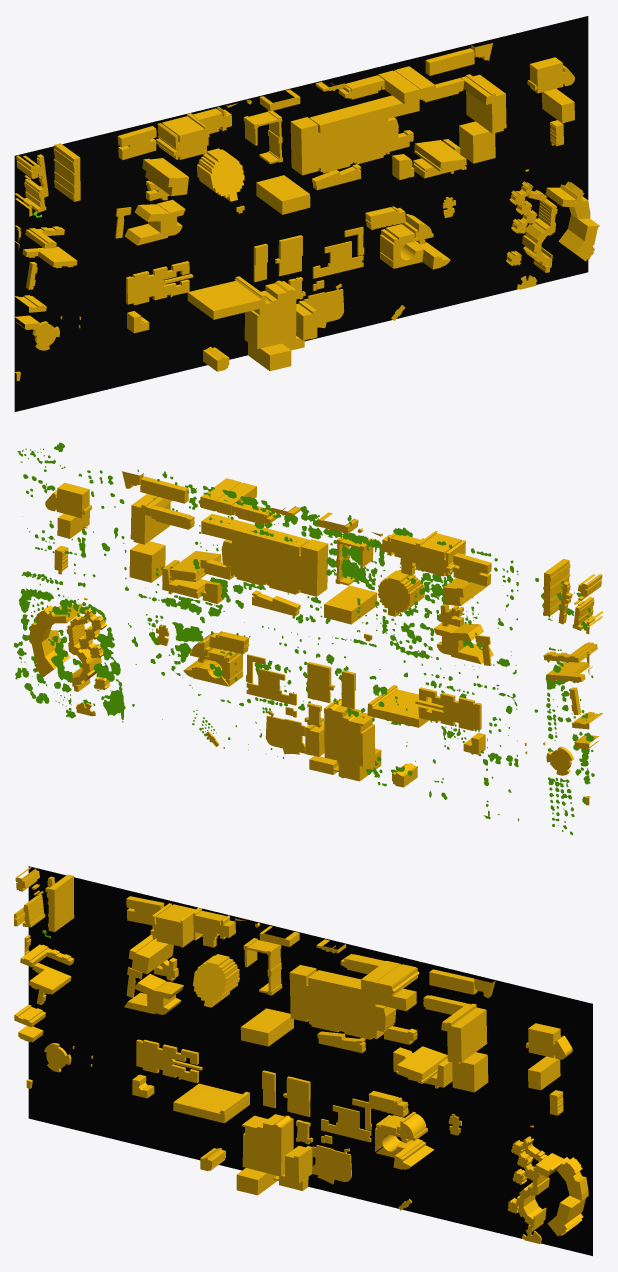
Rendered from existing_buildings_06.glb.
3 views of the same model, one above another, from view 1: azimuth 30°, elevation 25°; view 2: azimuth 150°, elevation 25°; view 3: azimuth 330°, elevation 25° (orthographic).
Parts seen in each view (by area): view 1: Layer 04, existing_building, existing_building - Copy; view 2: existing_building, treesurface, existing_building - Copy; view 3: Layer 04, existing_building, existing_building - Copy.
Part boxes in pixels (box(x1,y1,x2,y2)): Layer 04: box(14, 16, 588, 411); existing_building: box(15, 48, 599, 380); existing_building - Copy: box(22, 43, 590, 350); existing_building: box(30, 476, 603, 805); treesurface: box(14, 442, 594, 835); existing_building - Copy: box(29, 471, 585, 775); Layer 04: box(28, 866, 592, 1255); existing_building: box(14, 867, 585, 1236); existing_building - Copy: box(32, 876, 588, 1243).
Size of the model in its own units: 1020 by 458 by 78.19.
